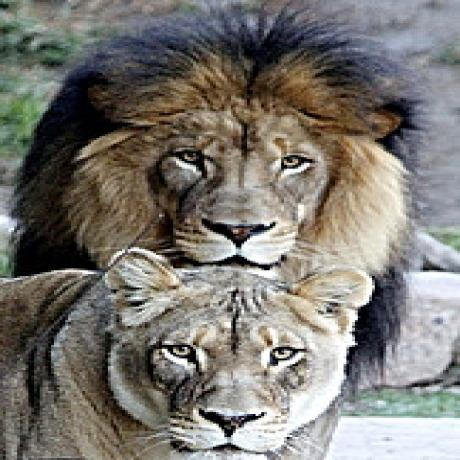Lion: (0, 0, 457, 278), (12, 245, 350, 460)
